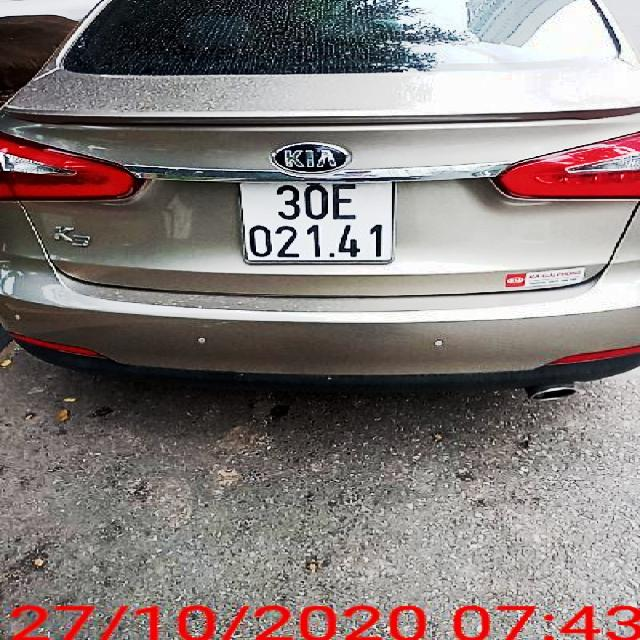license_plate: (244, 182, 395, 262)
